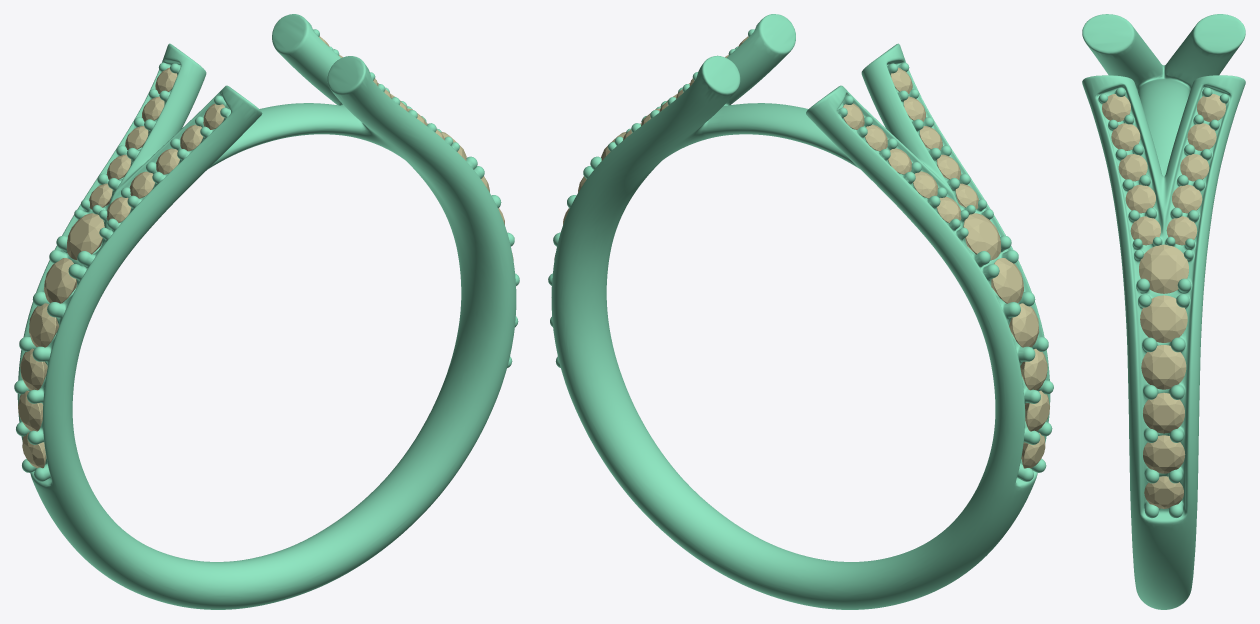
3 renders of one model, left to right at view 1: azimuth 30°, elevation 25°; view 2: azimuth 150°, elevation 25°; view 3: azimuth 270°, elevation 25°, orthographic.
Visible parts, largest first — view 1: Metal02, Diamond_Gem.015, Diamond_Gem.014, Diamond_Gem.013, Diamond_Gem.011, Diamond_Gem.012; view 2: Metal02, Diamond_Gem.015, Diamond_Gem.014, Diamond_Gem.013, Diamond_Gem.011, Diamond_Gem.012; view 3: Metal02, Diamond_Gem.016, Diamond_Gem.017, Diamond_Gem.018, Diamond_Gem.020, Diamond_Gem.019, Diamond_Gem.021, Diamond_Gem.025, Diamond_Gem.027, Diamond_Gem.026, Diamond_Gem.031, Diamond_Gem.023 (+5 smaller).
Part boxes in pixels (left/top/right/bottom): Metal02: left=14, top=14, right=519, bottom=609; Diamond_Gem.015: left=66, top=213, right=104, bottom=260; Diamond_Gem.014: left=44, top=258, right=76, bottom=303; Diamond_Gem.013: left=29, top=303, right=58, bottom=347; Diamond_Gem.011: left=20, top=348, right=47, bottom=390; Diamond_Gem.012: left=18, top=390, right=43, bottom=431; Metal02: left=548, top=14, right=1053, bottom=609; Diamond_Gem.015: left=963, top=213, right=1001, bottom=260; Diamond_Gem.014: left=991, top=258, right=1023, bottom=303; Diamond_Gem.013: left=1009, top=303, right=1039, bottom=347; Diamond_Gem.011: left=1020, top=348, right=1047, bottom=390; Diamond_Gem.012: left=1025, top=390, right=1049, bottom=431; Metal02: left=1082, top=14, right=1245, bottom=609; Diamond_Gem.016: left=1139, top=244, right=1188, bottom=293; Diamond_Gem.017: left=1140, top=295, right=1187, bottom=342; Diamond_Gem.018: left=1141, top=345, right=1186, bottom=389; Diamond_Gem.020: left=1143, top=392, right=1184, bottom=433; Diamond_Gem.019: left=1143, top=435, right=1185, bottom=473; Diamond_Gem.021: left=1144, top=476, right=1183, bottom=508; Diamond_Gem.025: left=1125, top=184, right=1155, bottom=213; Diamond_Gem.027: left=1172, top=184, right=1202, bottom=213; Diamond_Gem.026: left=1130, top=216, right=1160, bottom=245; Diamond_Gem.031: left=1166, top=216, right=1197, bottom=245; Diamond_Gem.023: left=1111, top=123, right=1140, bottom=150.
Bounding box in the file's own units: 21.12 × 22.51 × 6.19.
